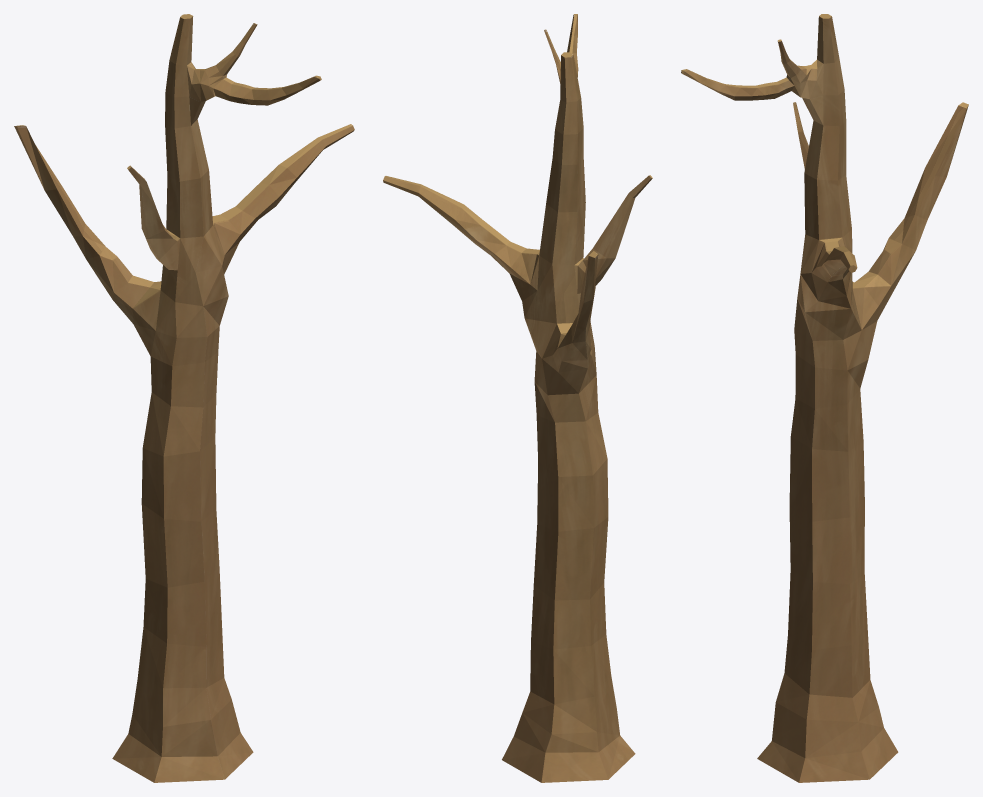
The model's file is Pohon_2.obj.
3 renders of one model, left to right at view 1: azimuth 30°, elevation 25°; view 2: azimuth 150°, elevation 25°; view 3: azimuth 270°, elevation 25°, orthographic. The views are drawn at different scales.
Visible parts, largest first — view 1: Pohon_2; view 2: Pohon_2; view 3: Pohon_2.
Part boxes in pixels (x1,y1,x2,y2): Pohon_2: (14, 14, 354, 782); Pohon_2: (383, 14, 652, 782); Pohon_2: (681, 14, 968, 782).
Size of the model in its own units: 24.65 by 61.96 by 21.82.
Materials: 1 (1 with a texture image).
